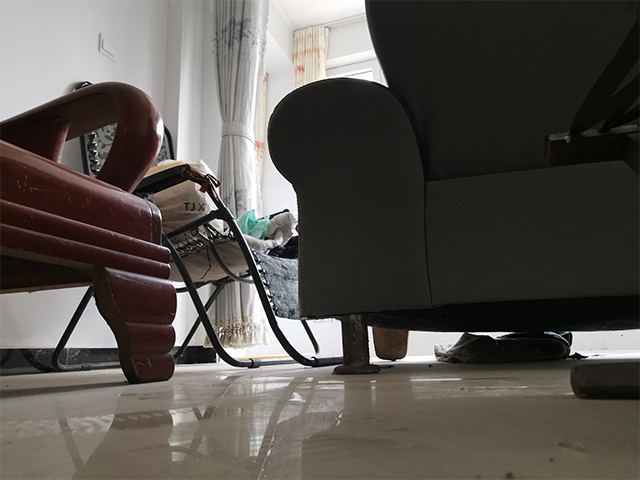sofa: (265, 1, 640, 376)
stool: (49, 81, 346, 373), (1, 80, 179, 384)
